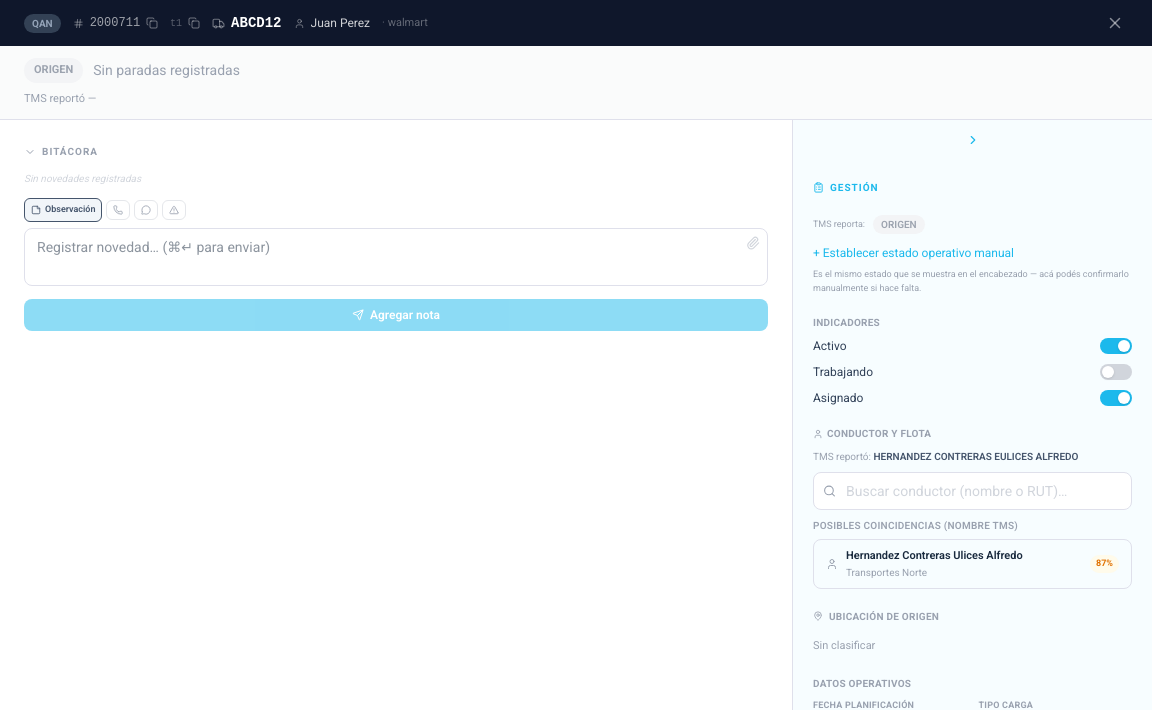
Test: TripDetailView — Conductor y flota (FleetAssignSection, driver-first) › shows fuzzy-match candidates by TMS name and picking one fills the draft
Expected: the text "Posibles coincidencias (nombre TMS)" is shown, [813, 520, 1018, 531]
Expected: the text "87%" is shown, [1090, 555, 1119, 572]
Step 1. Click the text "Hernandez Contreras Ulices Alfredo" → (934, 556), box [846, 549, 1023, 562]
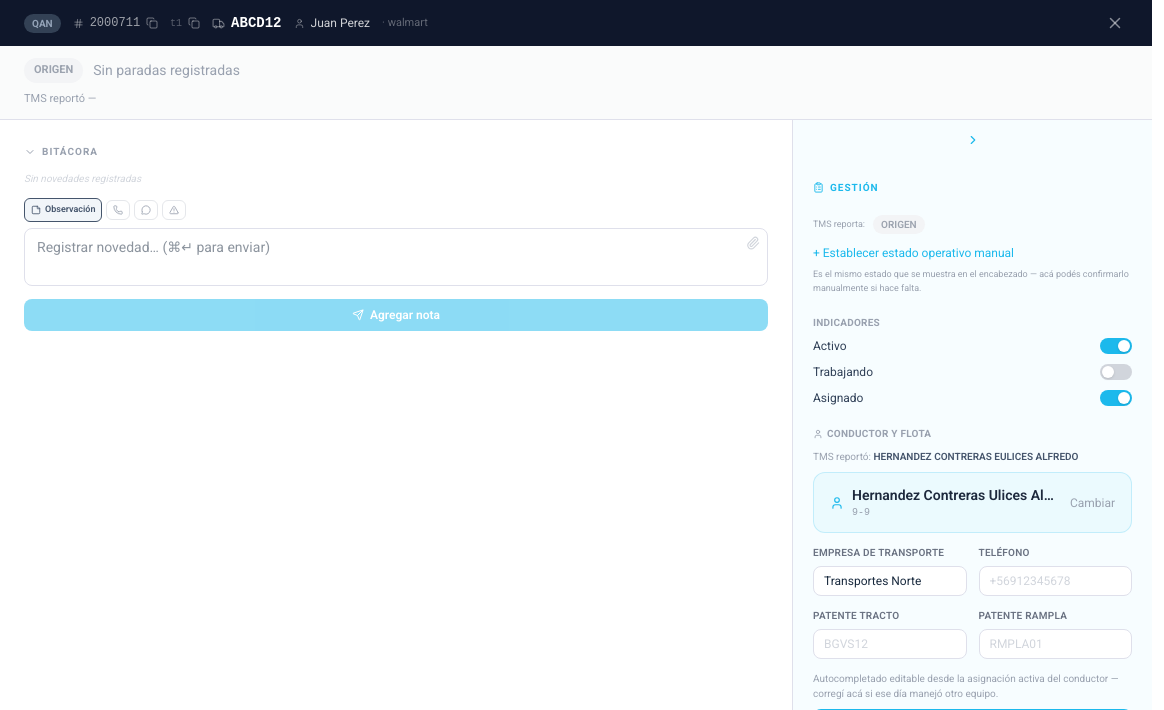
Result: the field named "Empresa de transporte" holds "Transportes Norte" at [813, 566, 966, 596]
